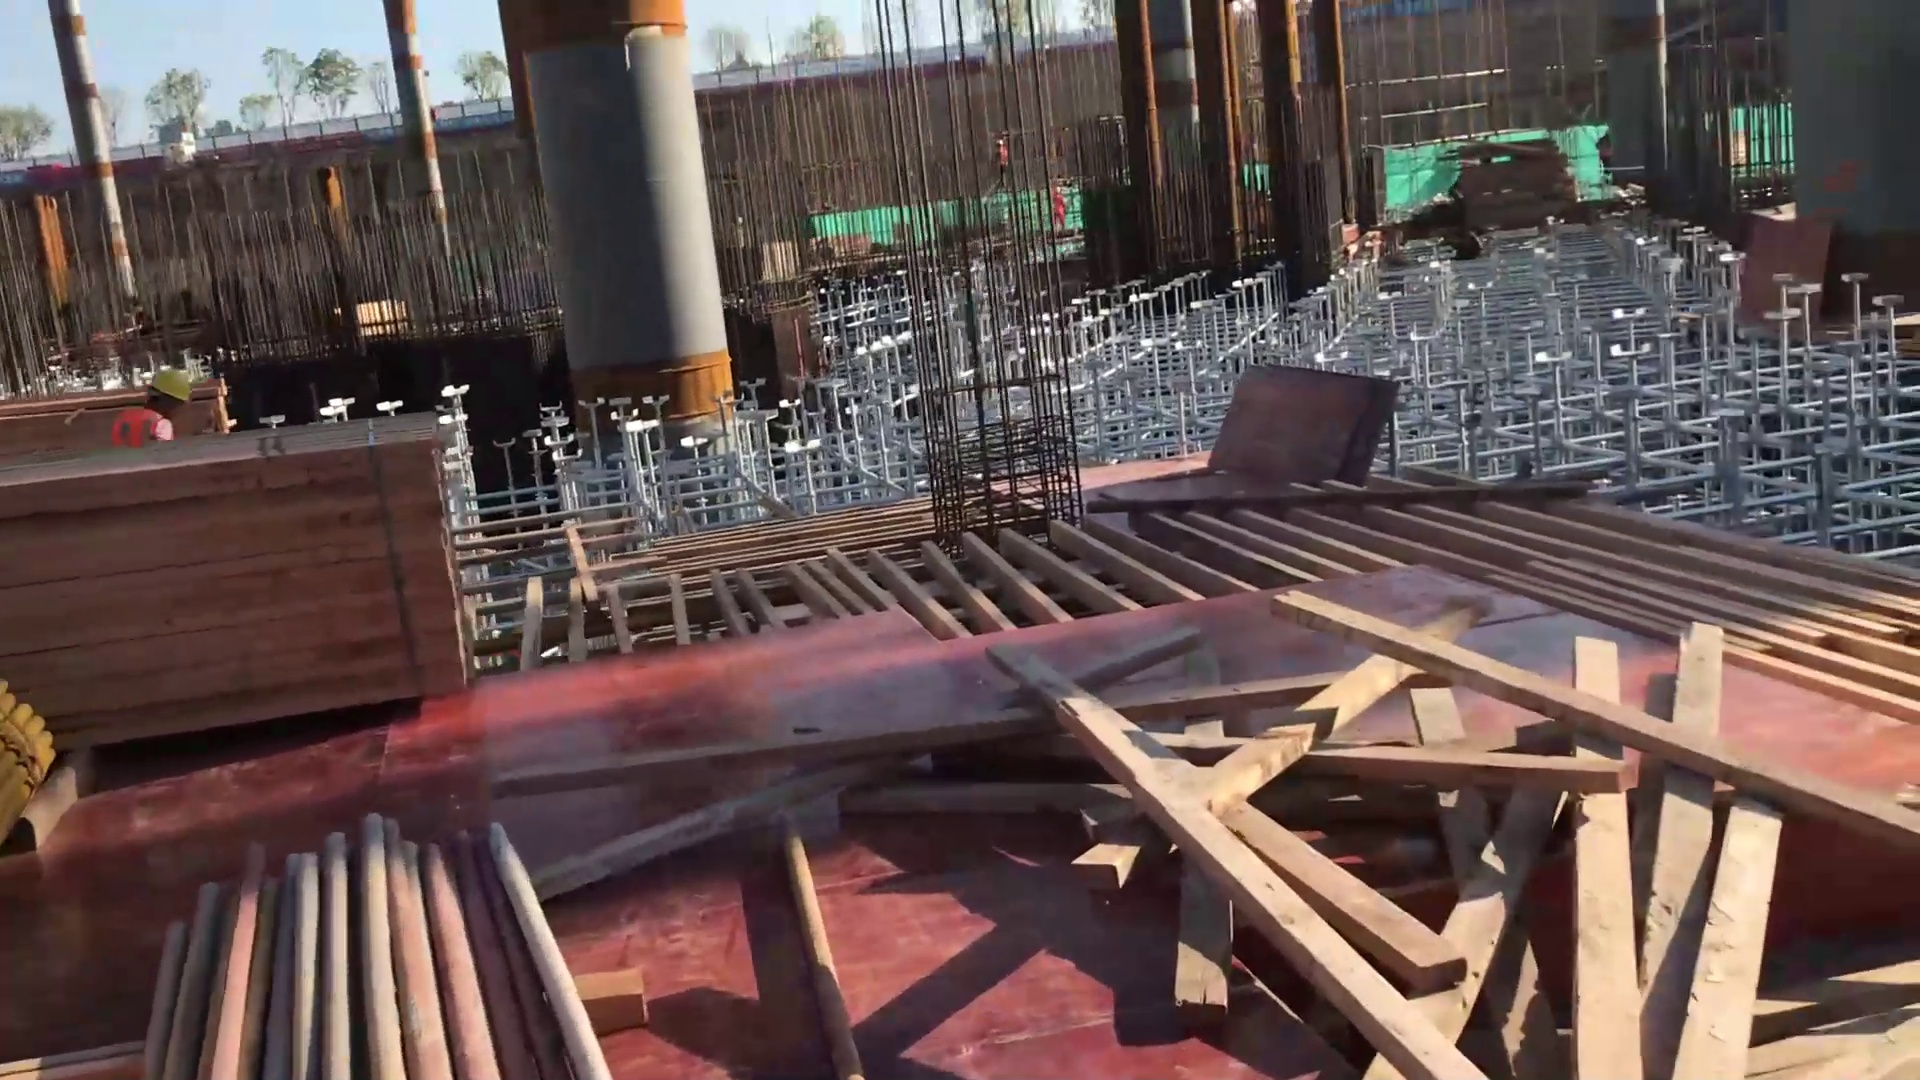helmet: (142, 357, 189, 407)
rebar: (131, 812, 650, 1076)
vest: (105, 406, 174, 464)
wood: (1, 389, 520, 767)
